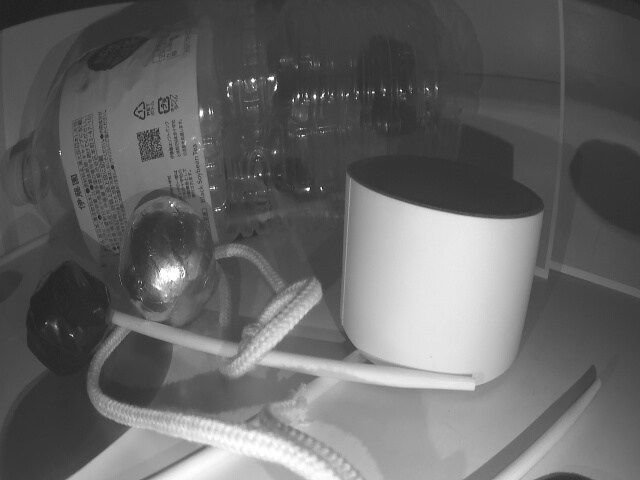Dead: (28, 266, 110, 373)
Live: (117, 199, 220, 329)
